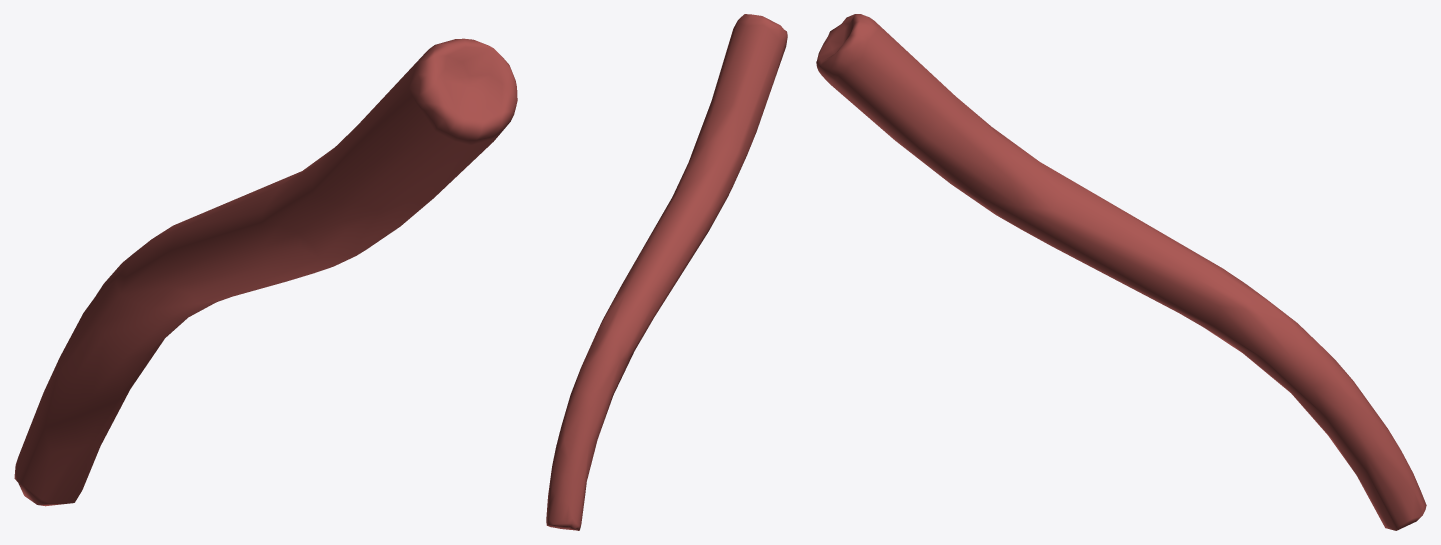
The model's file is FMA18887.glb.
3 renders of one model, left to right at view 1: azimuth 30°, elevation 25°; view 2: azimuth 150°, elevation 25°; view 3: azimuth 270°, elevation 25°, orthographic. The views are drawn at different scales.
Visible parts, largest first — view 1: FMA18887; view 2: FMA18887; view 3: FMA18887.
Boxes of the visible parts, x1,y1,x2,y2 form: FMA18887: [14, 38, 517, 506]; FMA18887: [546, 14, 787, 530]; FMA18887: [816, 14, 1426, 530].
Bounding box in the file's own units: 0.00853 × 0.0583 × 0.0632.
